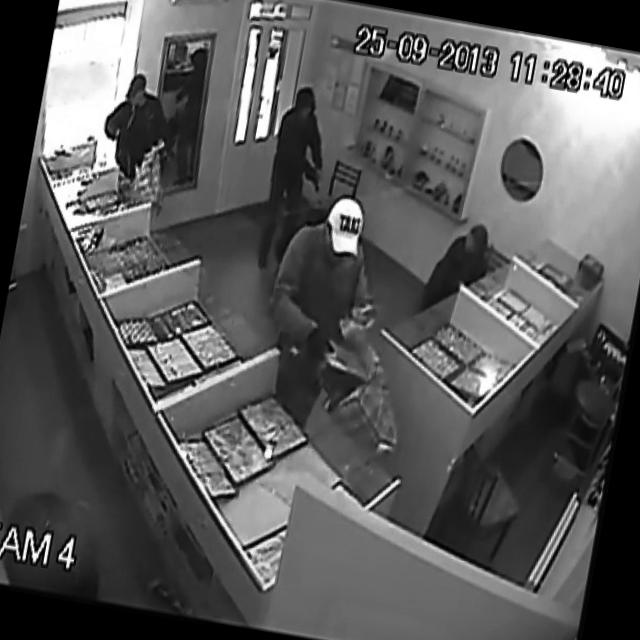gun: (293, 148, 330, 197)
person: (256, 192, 396, 415), (98, 64, 182, 185), (432, 210, 499, 292)
person with a gun: (243, 70, 344, 272)
